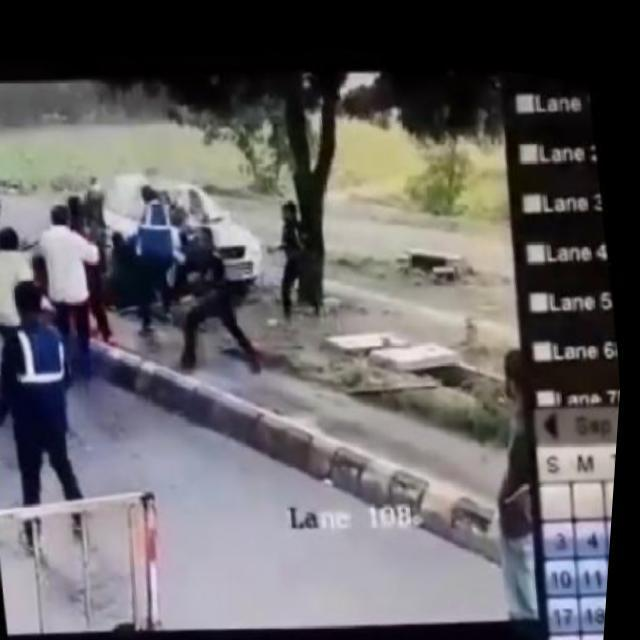fight: (101, 164, 202, 326)
